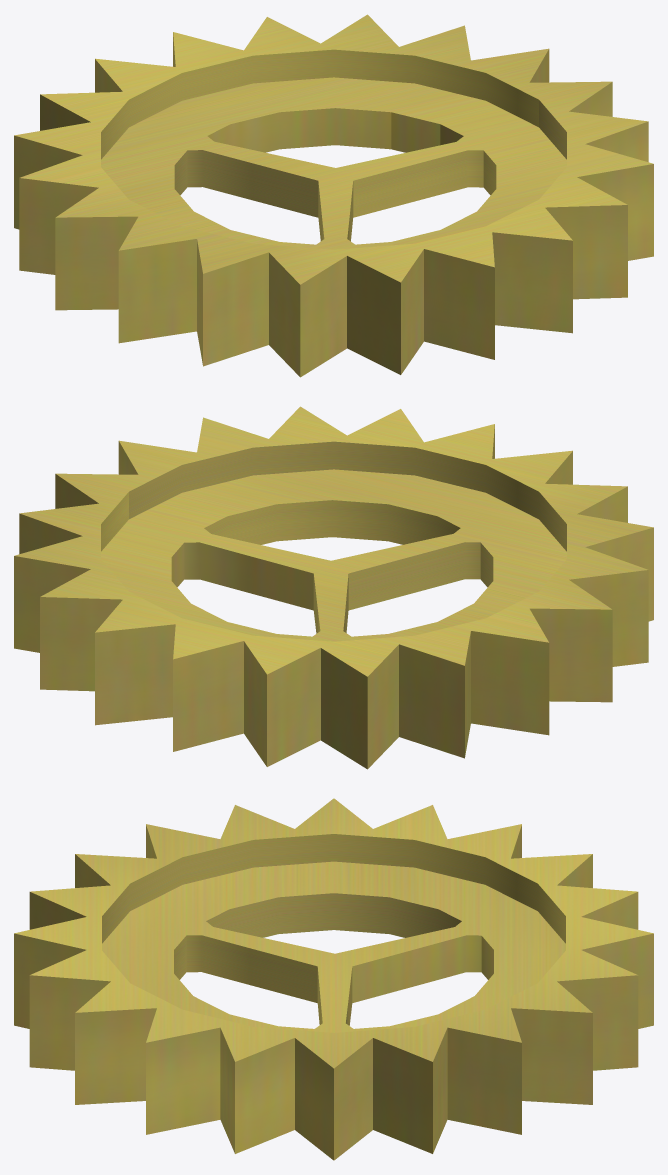
The model's file is ClockStraightFacet3Spoke020.fbx.
The picture shows the model from 3 angles, top to bottom: view 1: azimuth 30°, elevation 25°; view 2: azimuth 150°, elevation 25°; view 3: azimuth 270°, elevation 25°; orthographic projection.
Parts seen in each view (by area): view 1: ClockStraightFacet3Spoke020; view 2: ClockStraightFacet3Spoke020; view 3: ClockStraightFacet3Spoke020.
Part boxes in pixels (bbox=[...]): ClockStraightFacet3Spoke020: bbox=[14, 14, 653, 377]; ClockStraightFacet3Spoke020: bbox=[14, 406, 653, 769]; ClockStraightFacet3Spoke020: bbox=[14, 798, 653, 1160].
Size of the model in its own units: 124 by 19.69 by 124.
